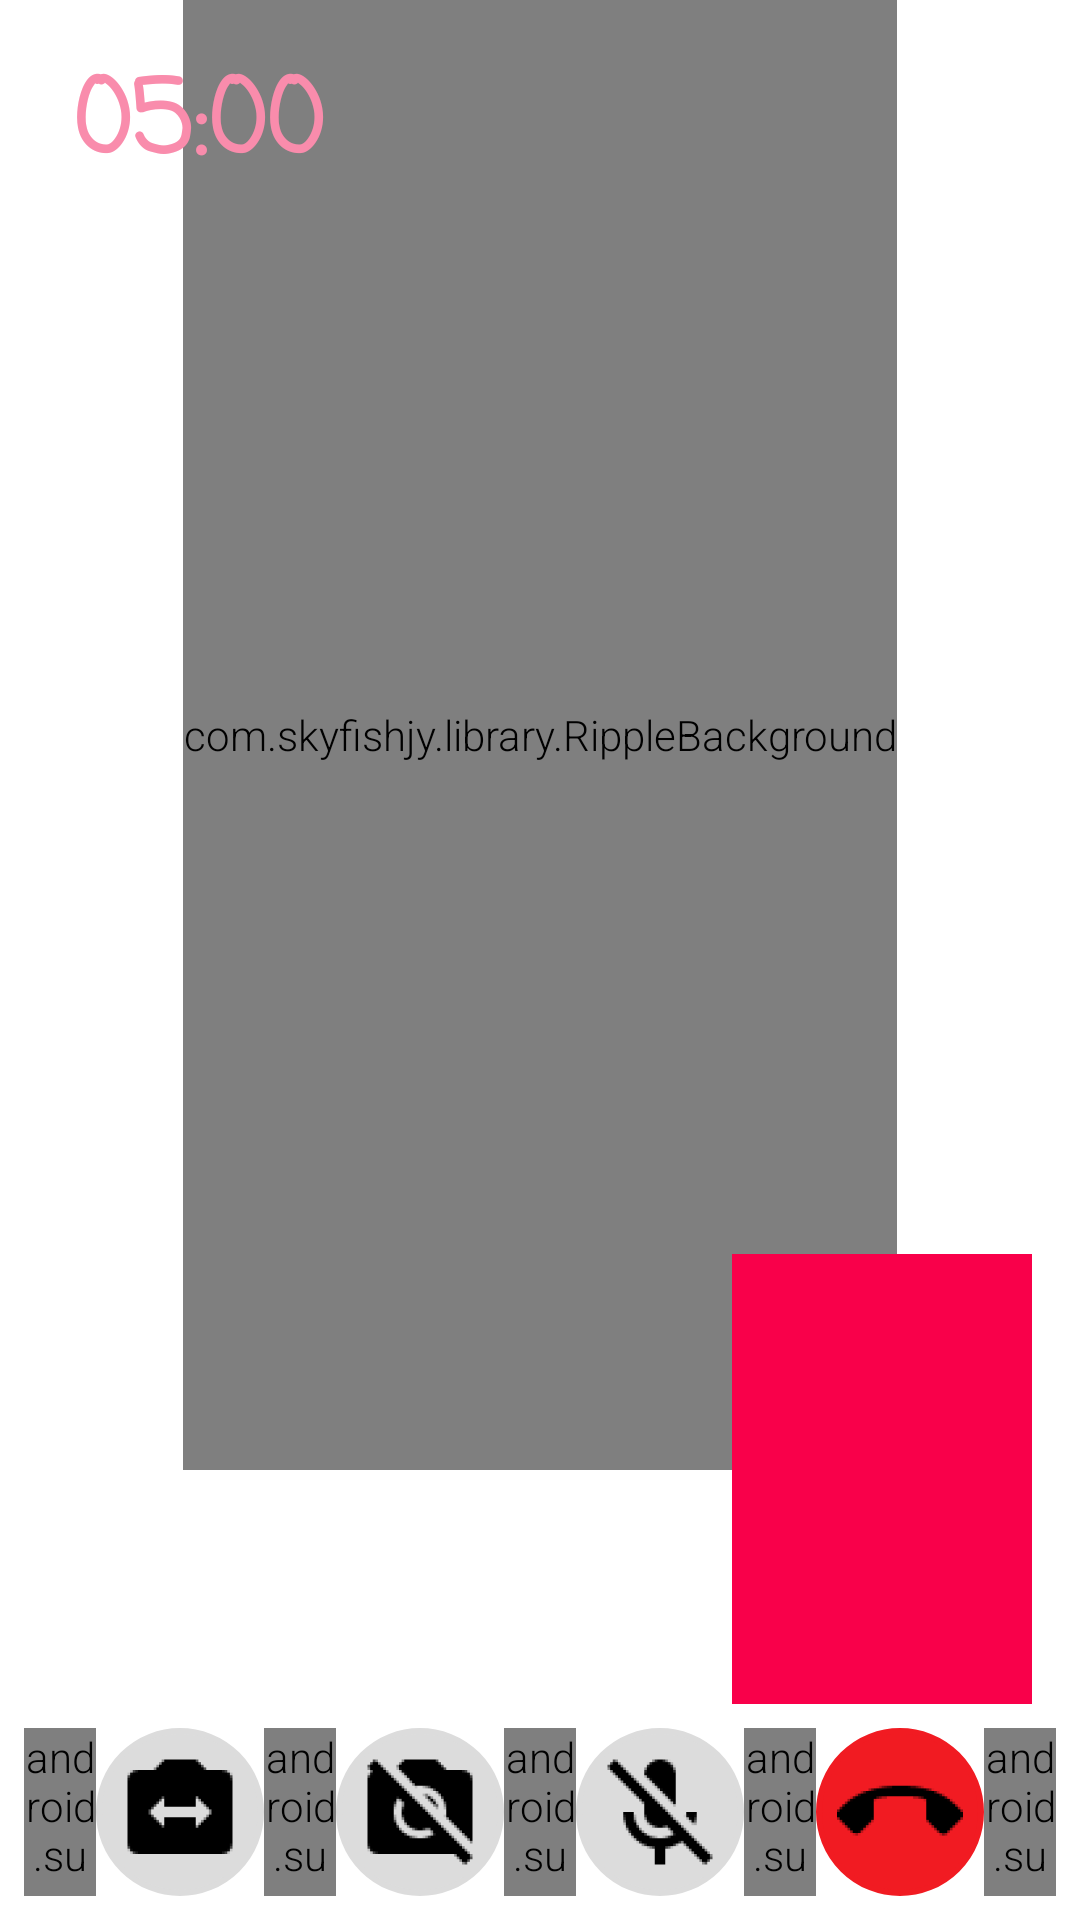

Icon click points for this 1080 × 1920 phone screenshot, format (x=x, y=y):
camera flip: (x=180, y=1812)
camera off: (x=420, y=1812)
end call: (x=900, y=1812)
mic off: (x=660, y=1812)
